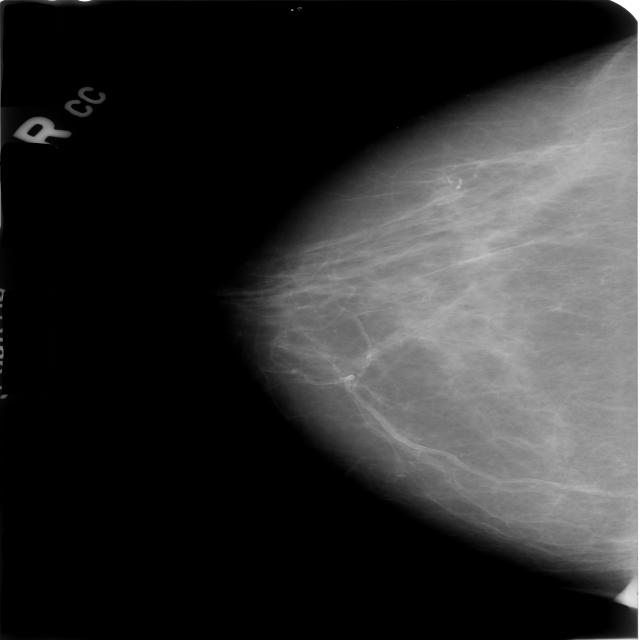normal: (234, 0, 640, 602)
